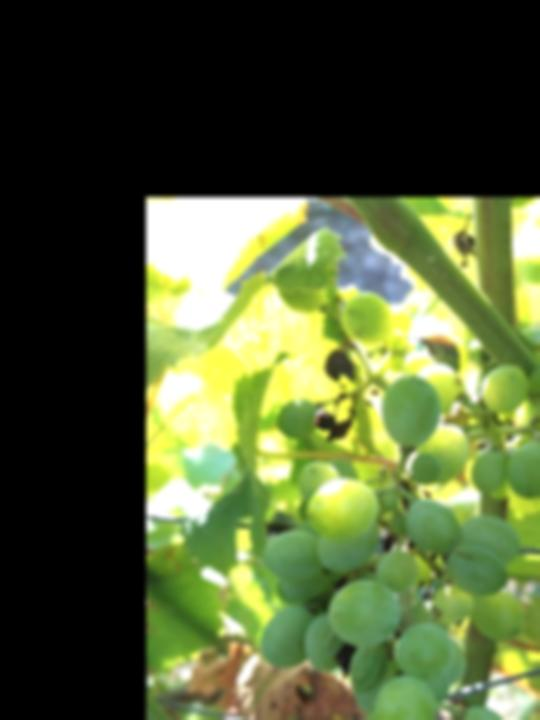grape: (256, 291, 540, 720)
